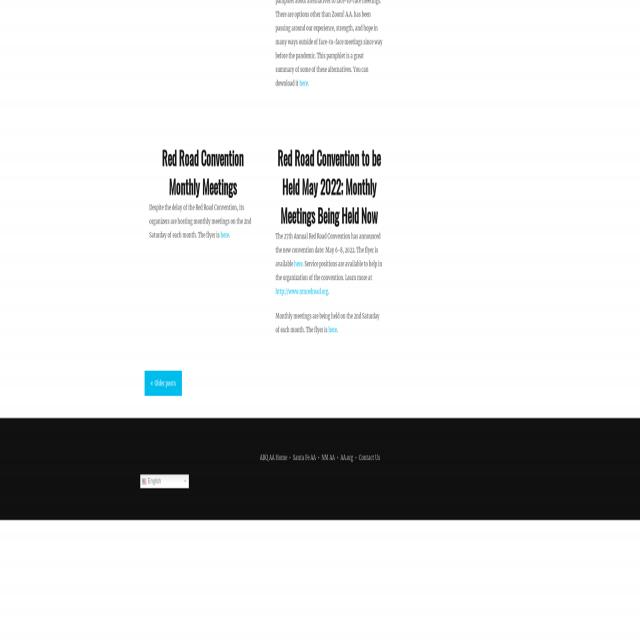button: (144, 371, 182, 396)
field: (140, 474, 188, 489)
